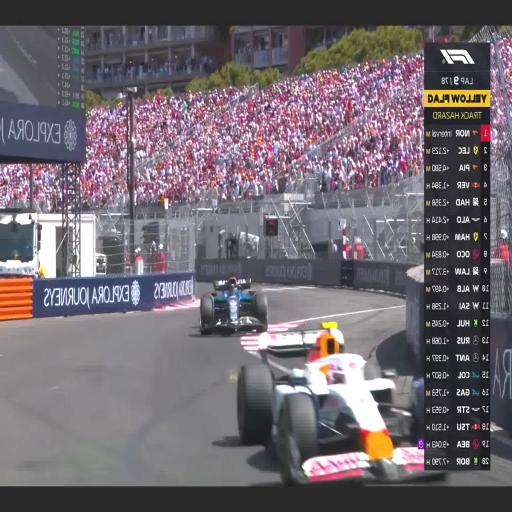f1_car: (237, 322, 446, 483), (201, 277, 268, 334)
